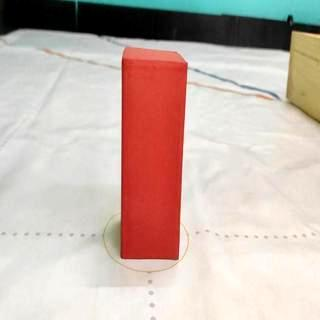redbox: (120, 45, 188, 260)
